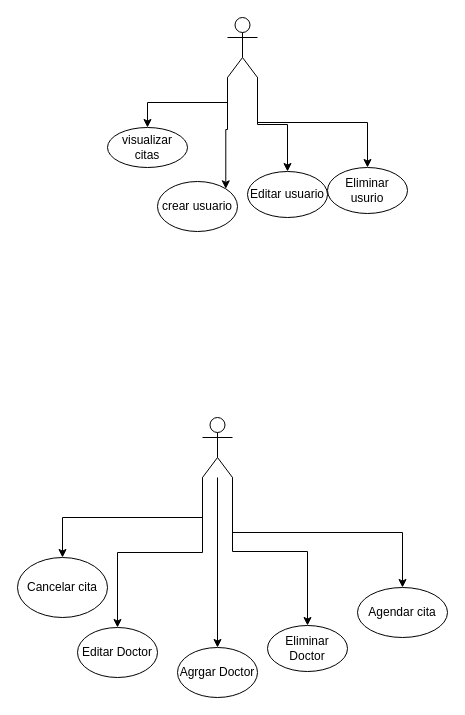
Some shapes in this 465 by 715 pixel diagram are drawn without their labels. Here are the shapes that lost their labels. From the top down, the centre of each, then its label:
At (x=242, y=47): "Cliente".
At (x=217, y=447): "Doctor".
